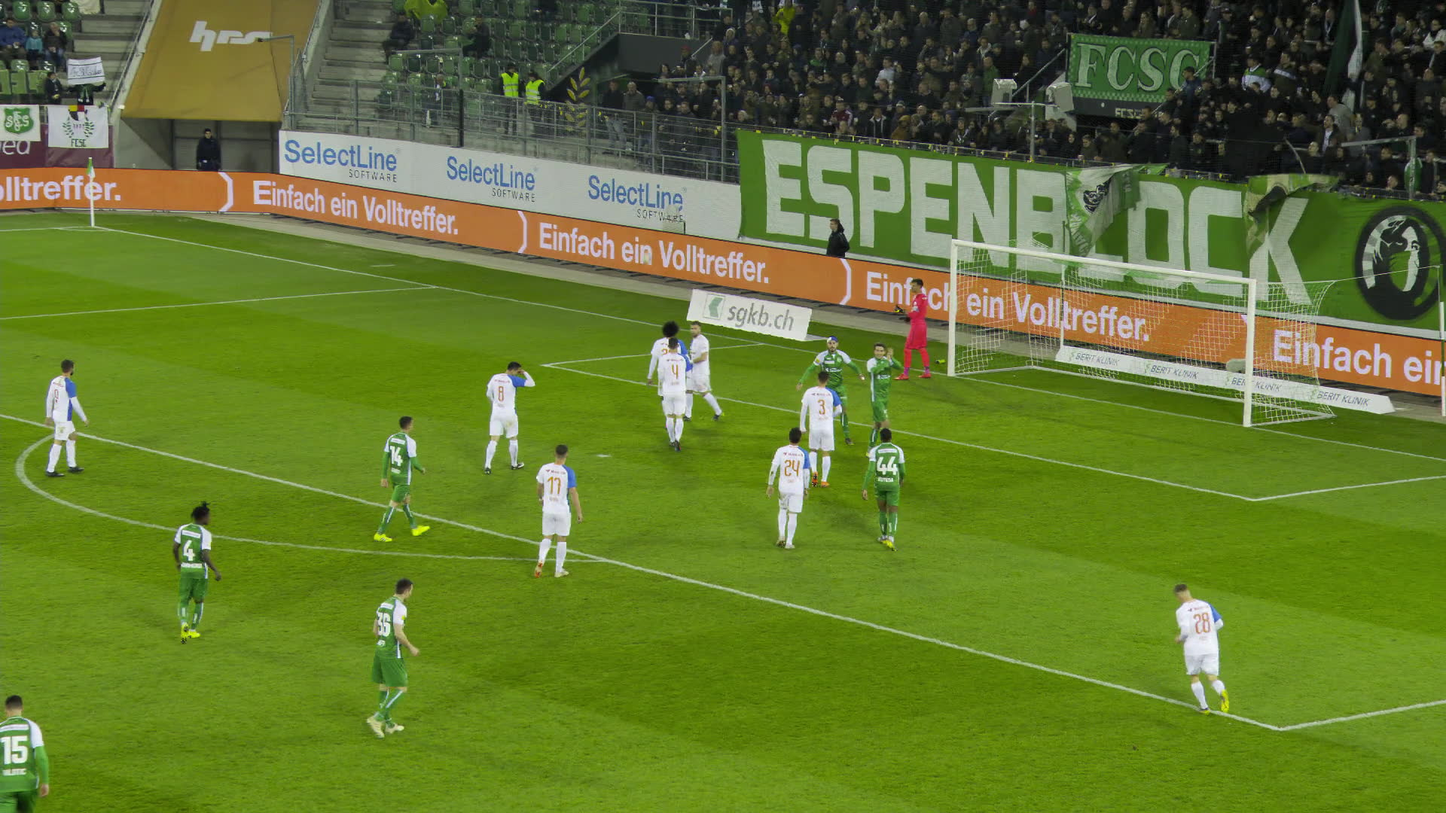ball: (642, 254, 650, 263)
player: (362, 580, 423, 738), (1168, 580, 1228, 722), (173, 498, 222, 644), (0, 693, 54, 812), (533, 450, 580, 577), (764, 429, 812, 549), (486, 361, 534, 473), (804, 340, 858, 437), (380, 414, 419, 542), (864, 427, 905, 548), (46, 357, 84, 479), (862, 343, 901, 458), (648, 319, 688, 422), (795, 376, 840, 464), (894, 277, 932, 381), (660, 340, 691, 448), (684, 321, 718, 418)
